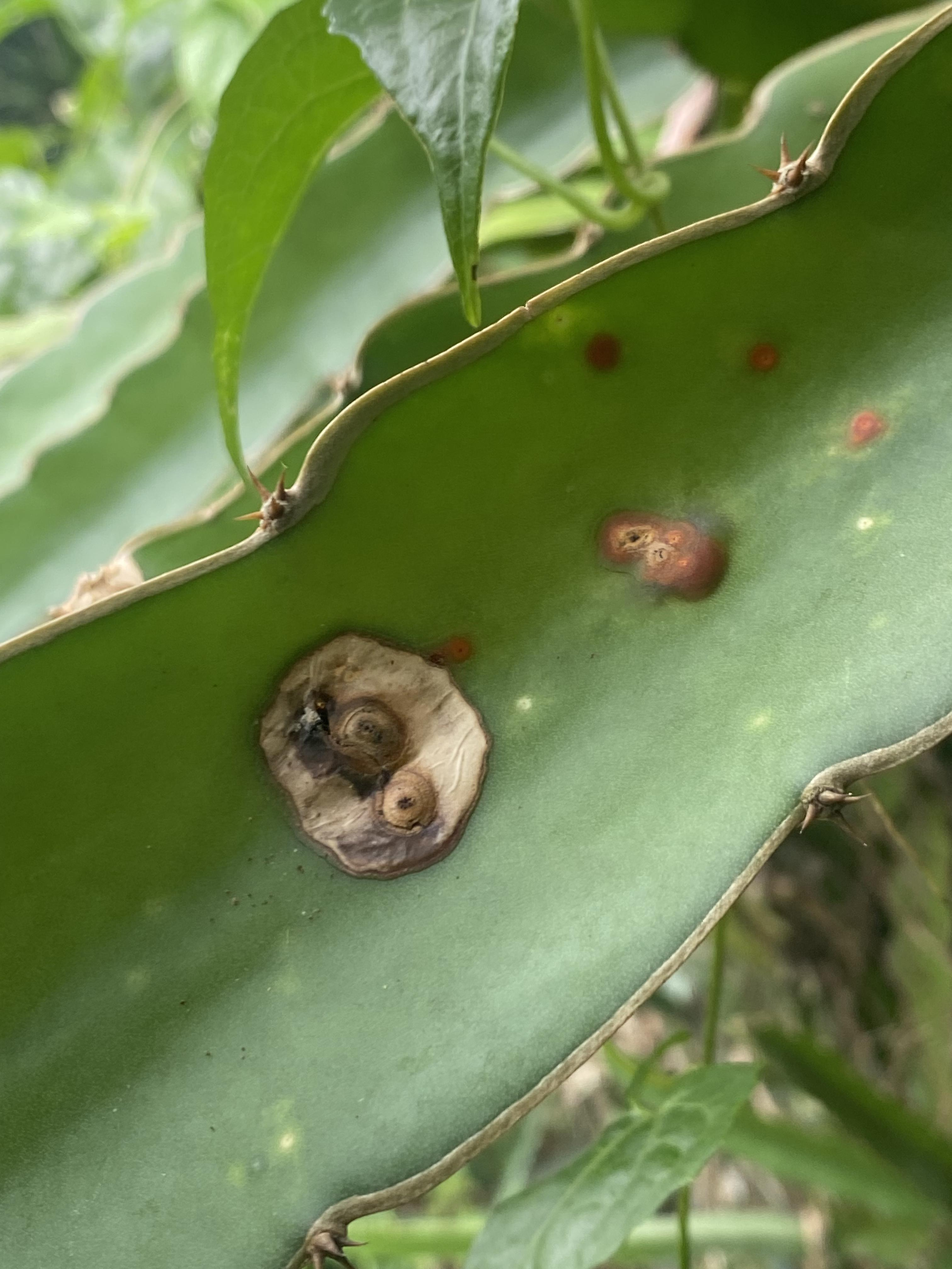stemcanker: (245, 624, 495, 892), (591, 500, 736, 608), (838, 403, 895, 455), (580, 326, 628, 381), (740, 336, 786, 379)
